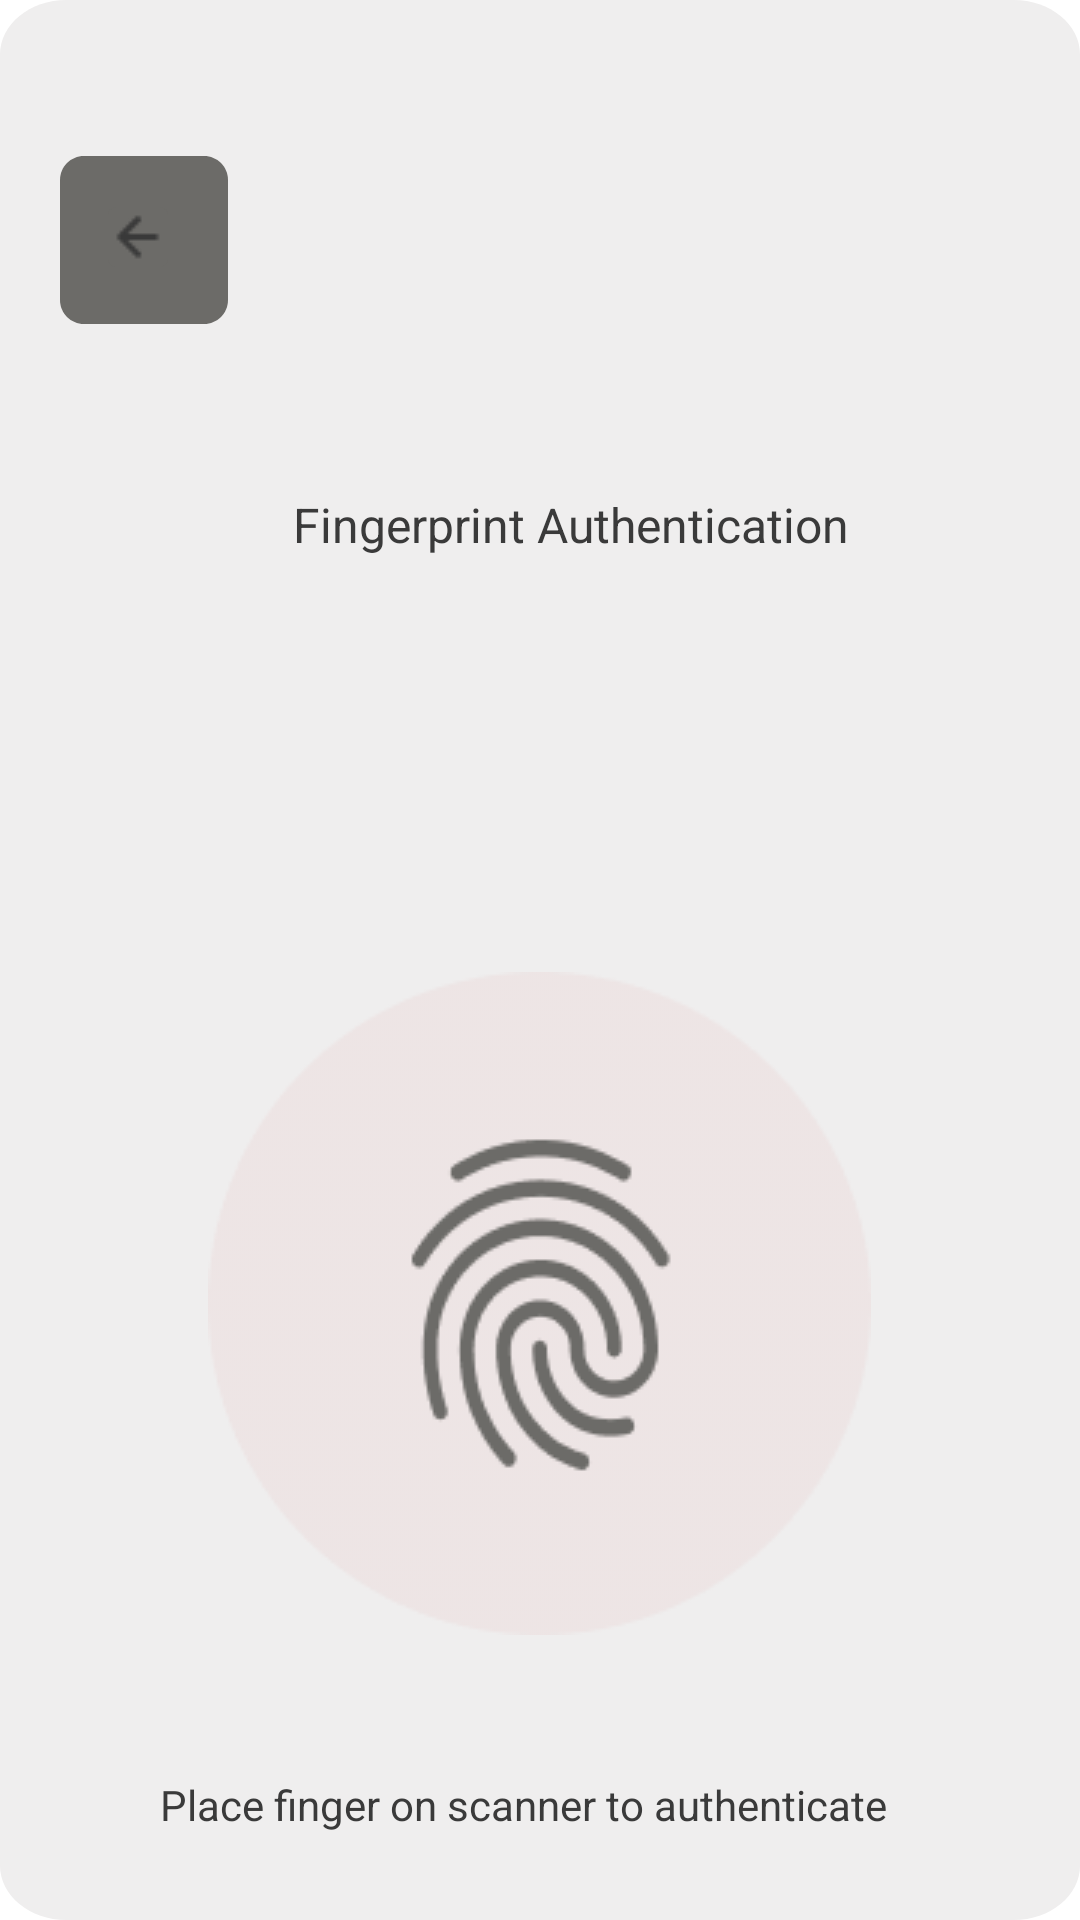

Where to tap for icons on this 1080px×1920px app screen, as point (x, y):
Back icon: point (138, 237)
